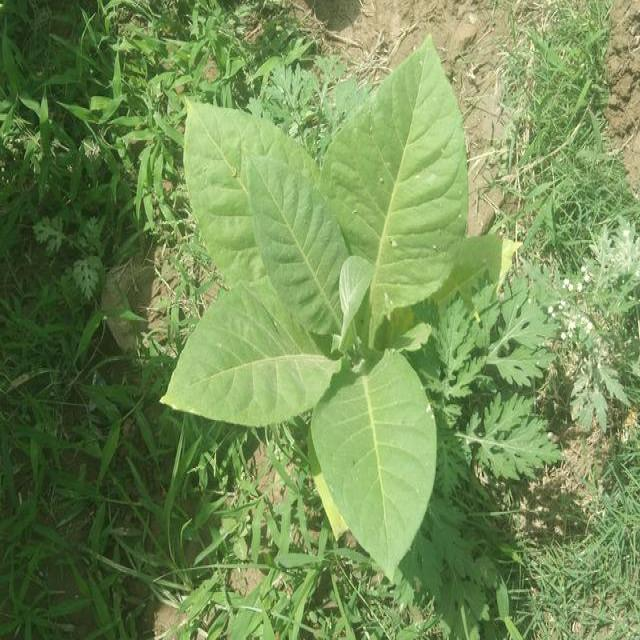crop: (174, 30, 476, 581)
